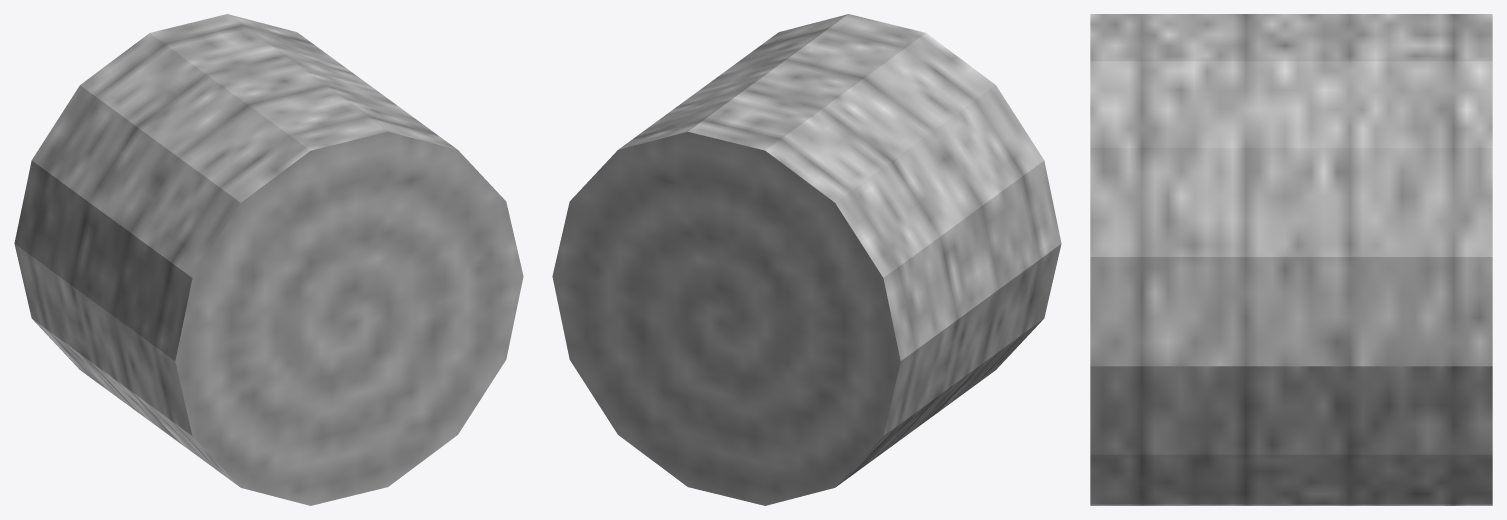
Rendered from balik.glb.
3 views of the same model, side by side, from view 1: azimuth 30°, elevation 25°; view 2: azimuth 150°, elevation 25°; view 3: azimuth 270°, elevation 25° (orthographic). The views are drawn at different scales.
Parts seen in each view (by area): view 1: balik; view 2: balik; view 3: balik.
Part boxes in pixels (x1,y1,x2,y2): balik: (14,14,523,505); balik: (552,14,1061,505); balik: (1090,14,1492,505).
Size of the model in its own units: 1.5 by 1.46 by 1.2.
1 material, 1 textured.
